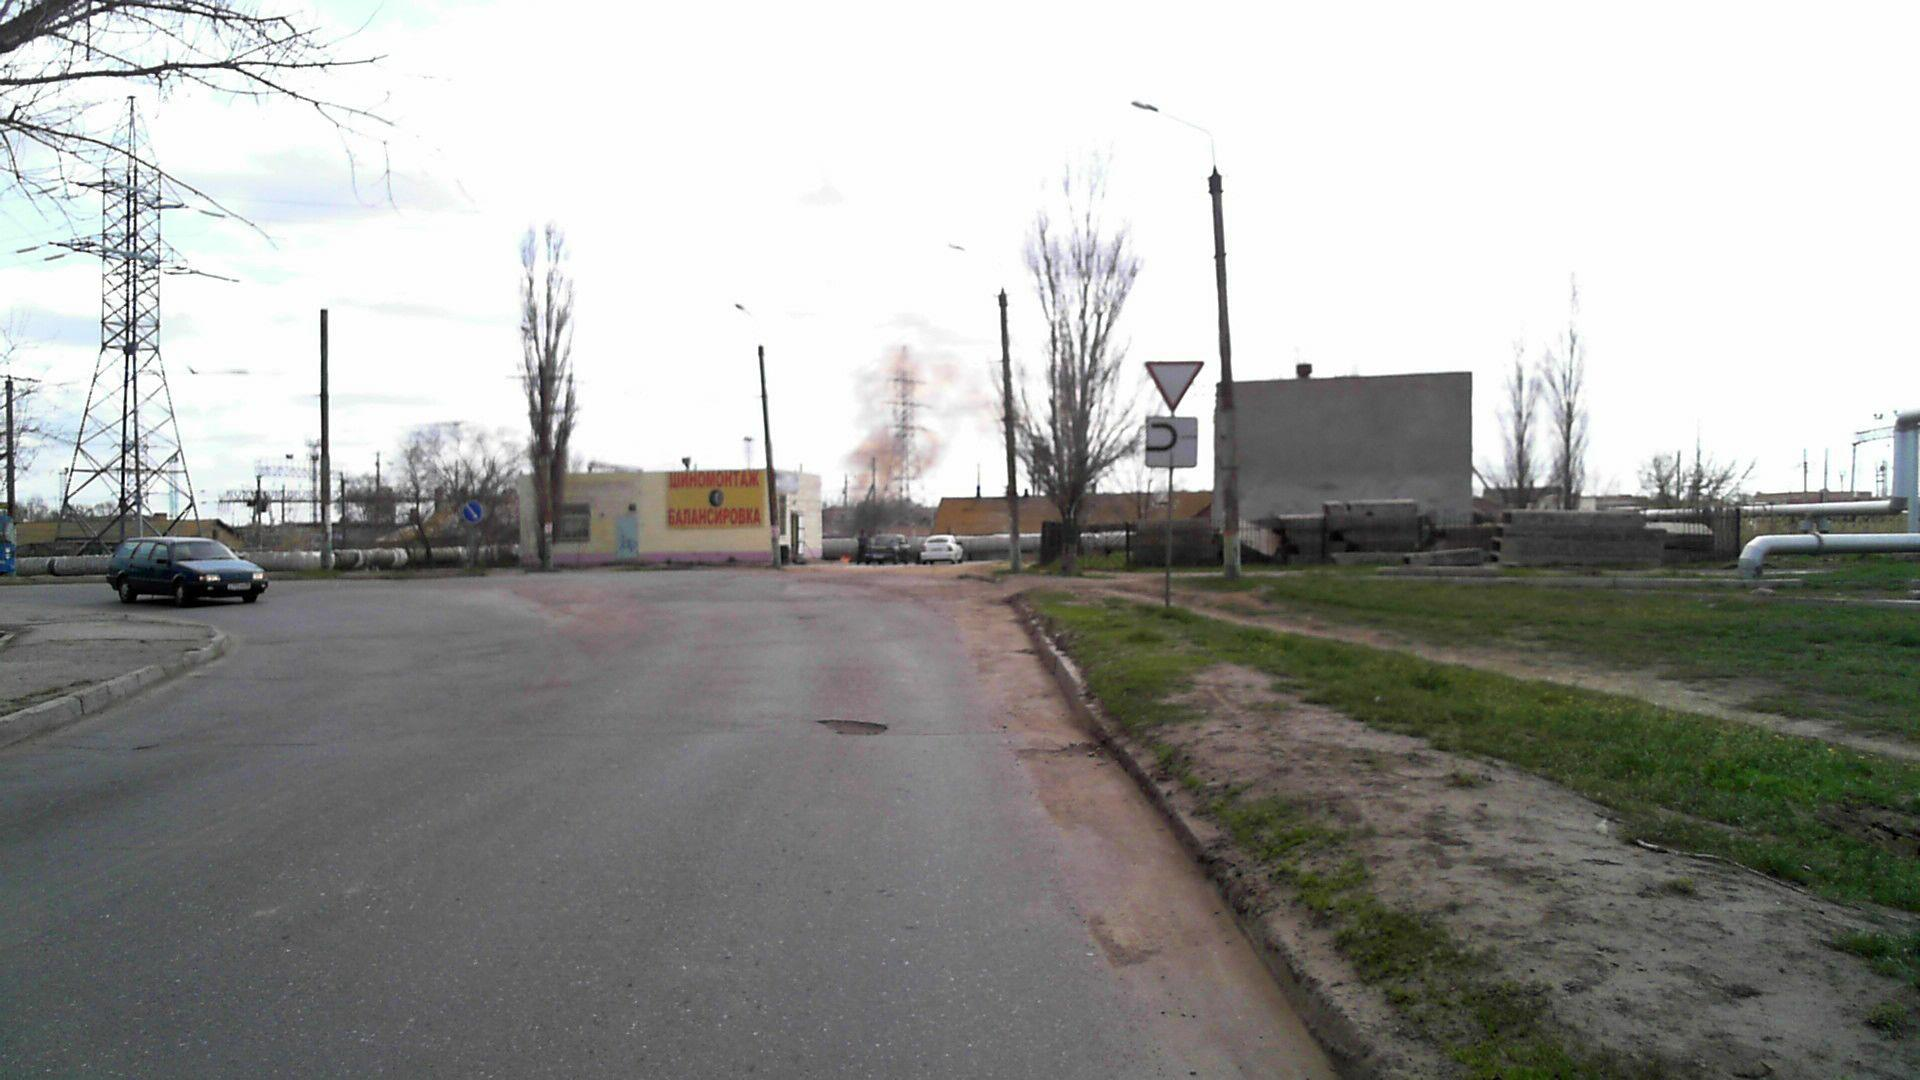2_4: (1146, 359, 1205, 411)
8_13: (1142, 415, 1197, 469)
